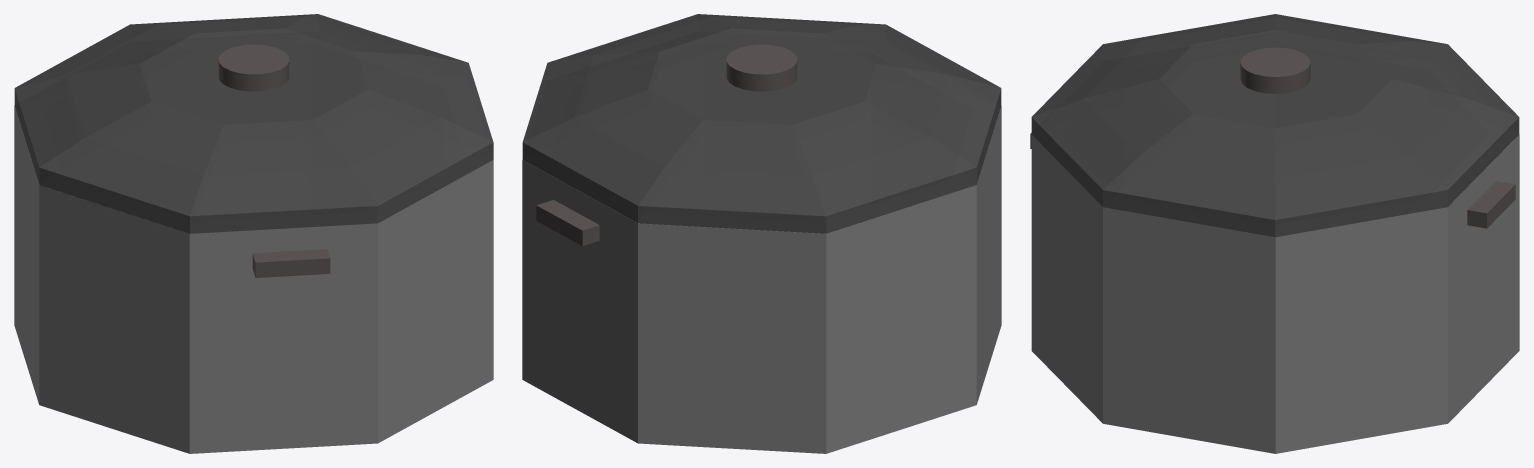
The model's file is Pot.fbx.
3 renders of one model, left to right at view 1: azimuth 30°, elevation 25°; view 2: azimuth 150°, elevation 25°; view 3: azimuth 270°, elevation 25°, orthographic.
Visible parts, largest first — view 1: polySurface262; view 2: polySurface262; view 3: polySurface262.
Part boxes in pixels (x1,y1,x2,y2): polySurface262: [14, 14, 493, 453]; polySurface262: [522, 14, 1001, 453]; polySurface262: [1030, 14, 1519, 453].
Bounding box in the file's own units: 33.81 × 22.06 × 33.89.
